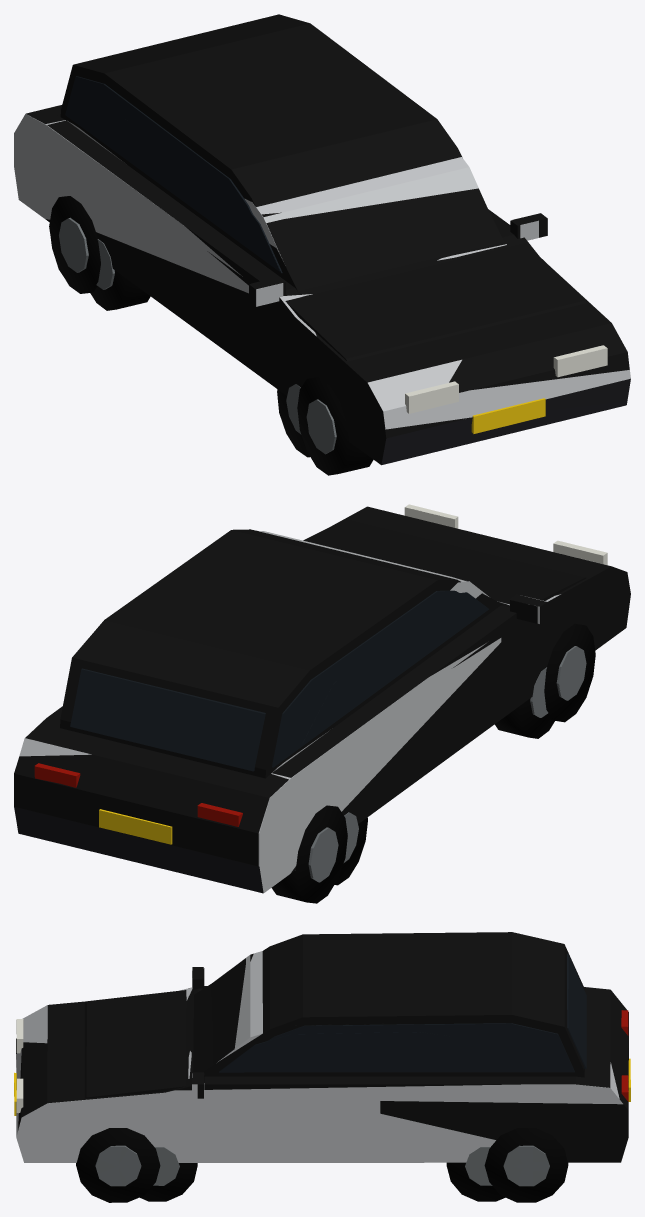
The model's file is cars.glb.
3 views of the same model, one above another, from view 1: azimuth 30°, elevation 25°; view 2: azimuth 150°, elevation 25°; view 3: azimuth 270°, elevation 25° (orthographic). The views are drawn at different scales.
Parts seen in each view (by area): view 1: carpaint (×3), paint (×3), carglass (×2), metal (×3); view 2: carpaint (×3), carglass (×2), paint (×3), metal (×3); view 3: carpaint (×3), carglass (×2), paint (×3), metal (×3).
Part boxes in pixels (x1,y1,x2,y2): carpaint (×3): (14, 14, 630, 465); paint (×3): (49, 196, 607, 475); carglass (×2): (65, 76, 282, 273); metal (×3): (59, 218, 336, 454); carpaint (×3): (14, 506, 630, 893); carglass (×2): (70, 590, 488, 771); paint (×3): (34, 504, 607, 903); metal (×3): (308, 646, 586, 882); carpaint (×3): (16, 932, 628, 1162); carglass (×2): (219, 954, 586, 1072); paint (×3): (14, 1010, 630, 1202); metal (×3): (95, 1145, 549, 1186).
Bounding box in the file's own units: 2.12 × 1.51 × 4.71.
